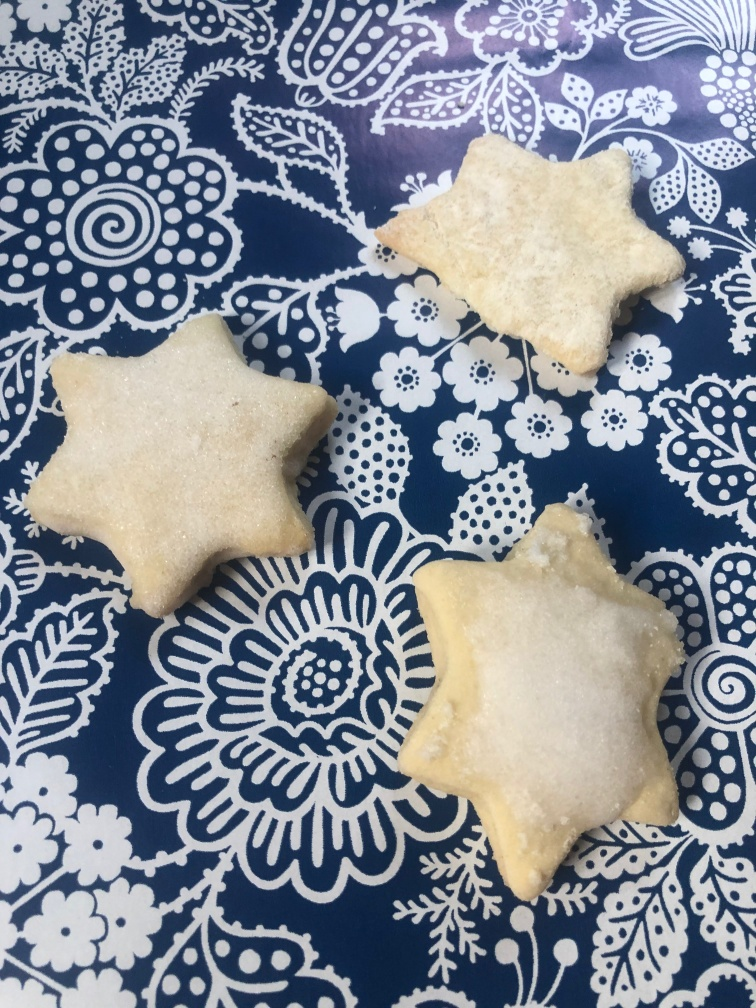star: (386, 498, 691, 898), (18, 306, 332, 616), (370, 124, 686, 378)
